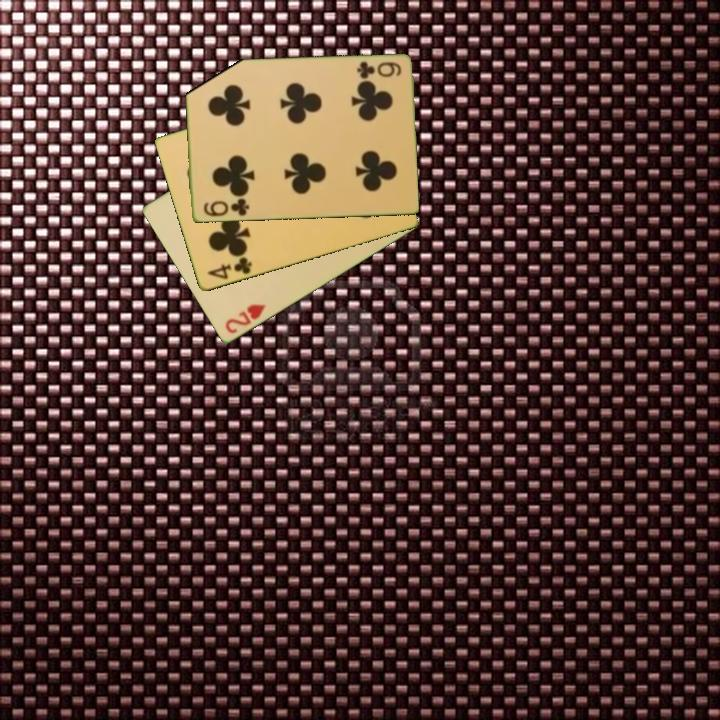2h: (221, 301, 269, 337)
4c: (203, 254, 255, 283)
6c: (199, 195, 252, 219), (353, 58, 404, 81)
